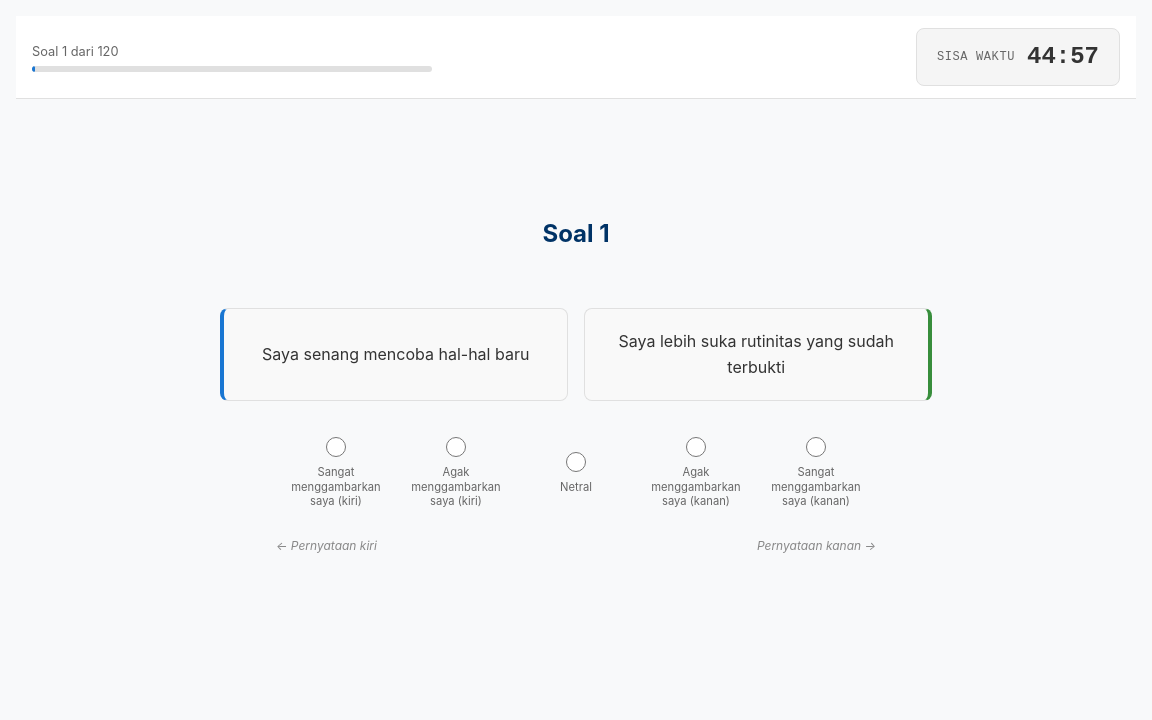
Test case: PersonalityTestPage › updates progress text after advancing to next item
What coordinates should you click on to do the following:
click the radio button labelled "Sangat menggambarkan saya (kiri)"
I would click on:
 (336, 447)
Its box is [326, 437, 346, 457].
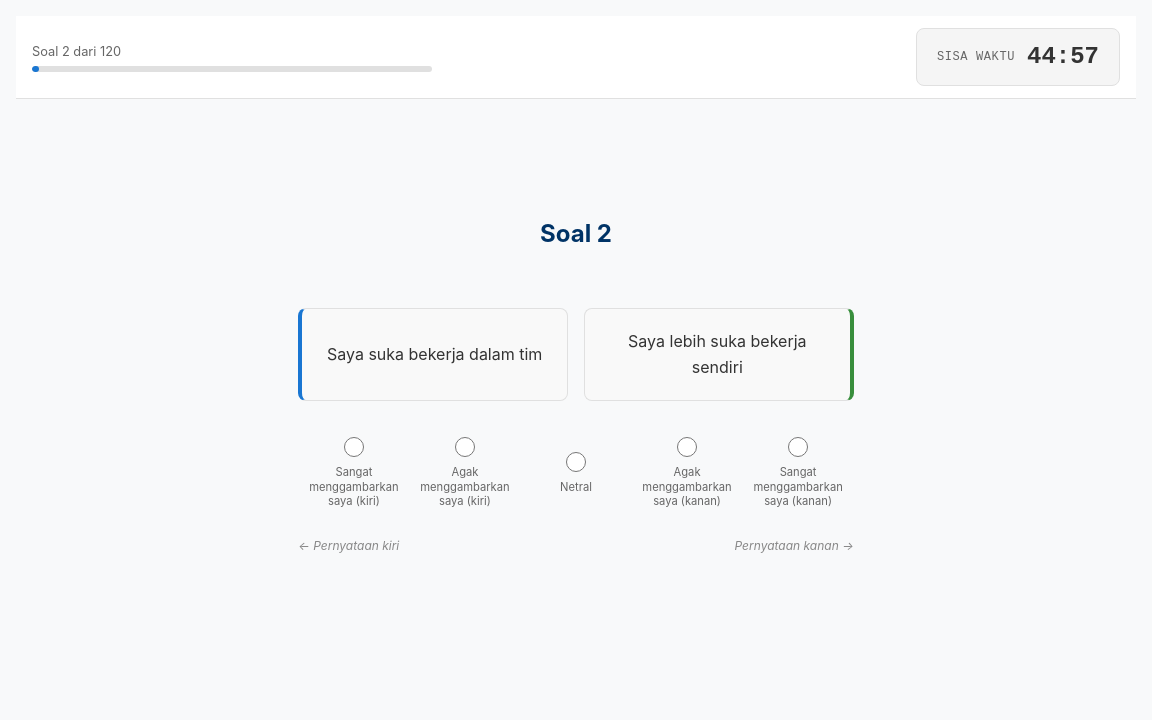
Expected: the text with test id "progress-text" reads "Soal 2 dari 120", [32, 44, 121, 59]
